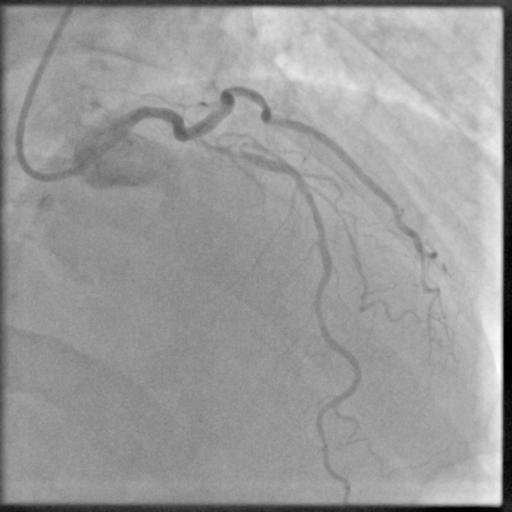Stenosis: (197, 136, 260, 164)
